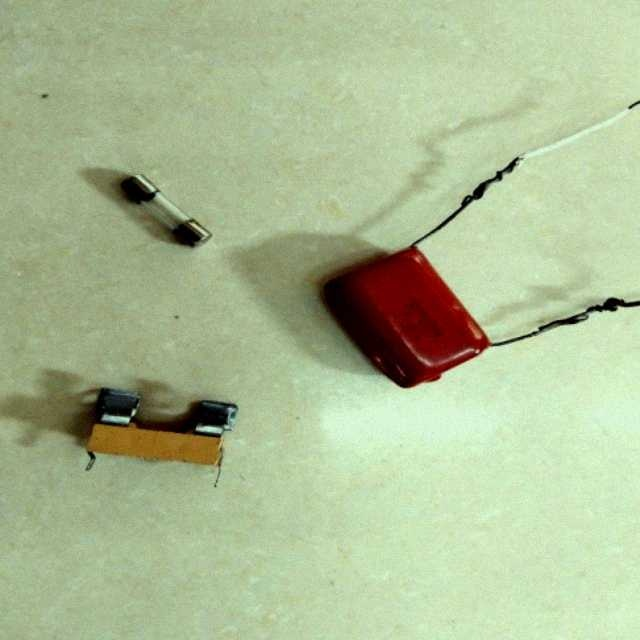capacitor: (324, 250, 482, 387)
